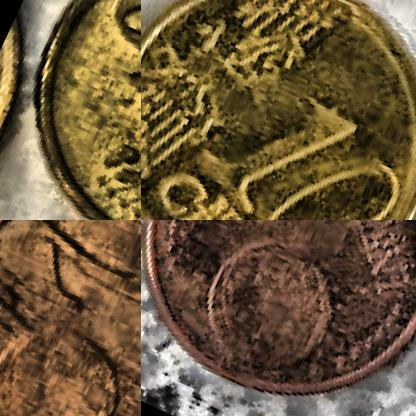coin: (141, 0, 415, 219), (141, 220, 415, 415), (0, 0, 140, 219), (0, 220, 140, 415)
